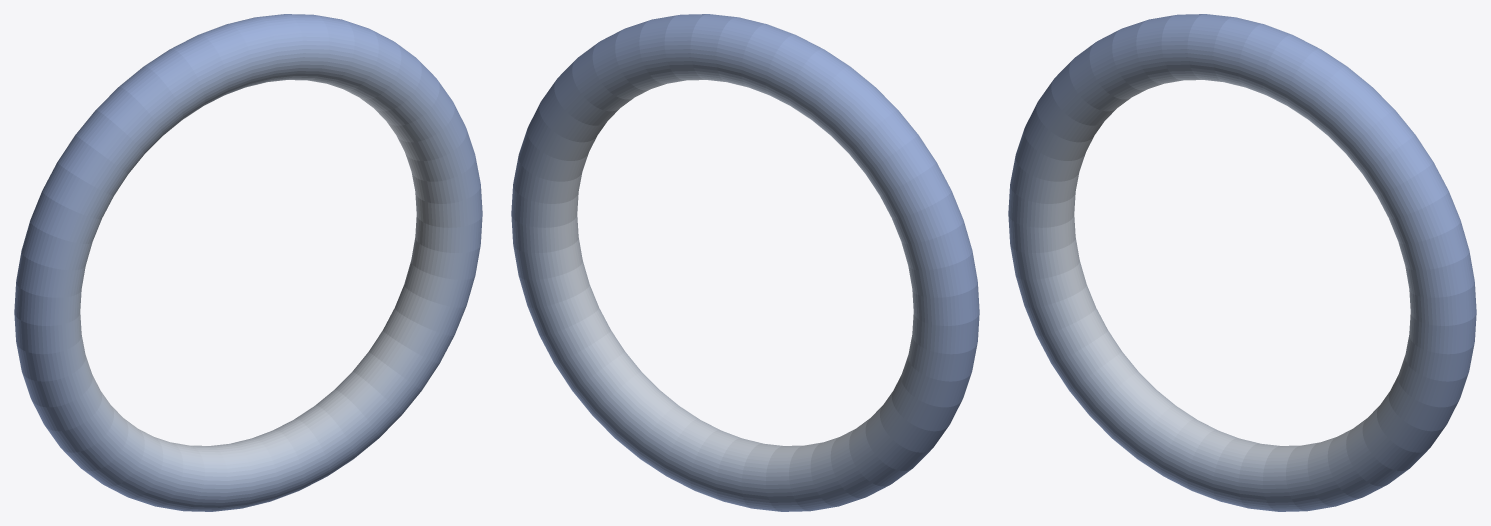
The picture shows the model from 3 angles, left to right: view 1: azimuth 30°, elevation 25°; view 2: azimuth 150°, elevation 25°; view 3: azimuth 330°, elevation 25°; orthographic projection.
Parts seen in each view (by area): view 1: world; view 2: world; view 3: world.
Boxes of the visible parts, <box> form: world: <box>14,14,482,511</box>; world: <box>511,14,979,511</box>; world: <box>1008,14,1476,511</box>.
Size of the model in its own units: 28.93 by 28.88 by 3.59.
